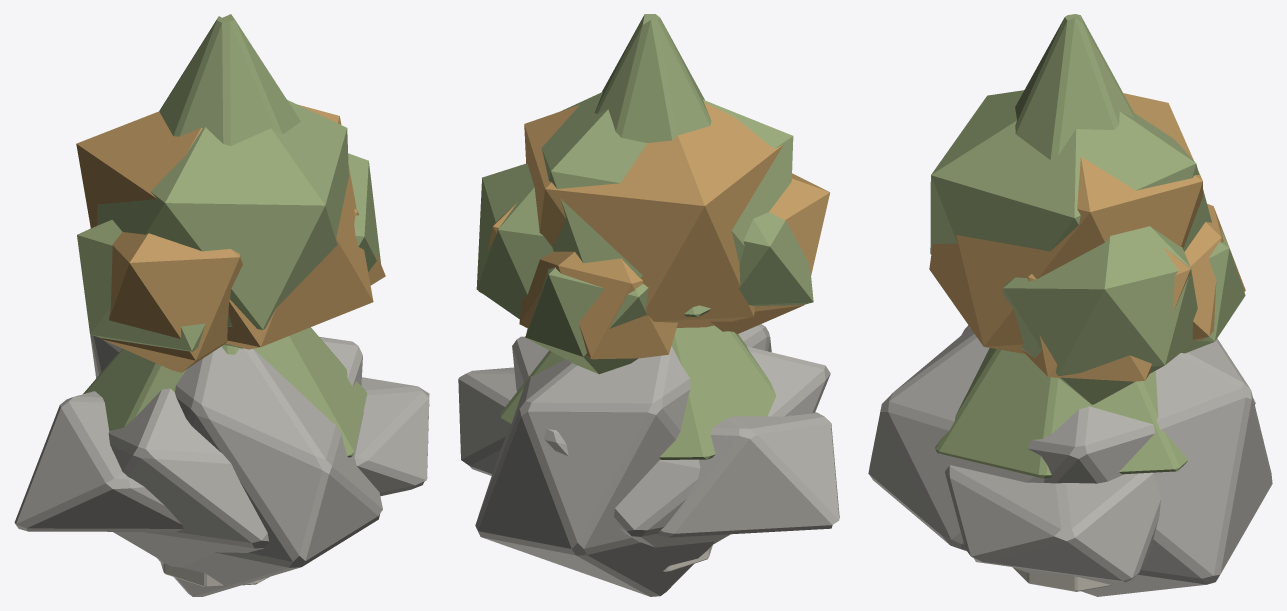
The model's file is props.glb.
The picture shows the model from 3 angles, left to right: view 1: azimuth 30°, elevation 25°; view 2: azimuth 150°, elevation 25°; view 3: azimuth 270°, elevation 25°; orthographic projection. The views are drawn at different scales.
Visible parts, largest first — view 1: TreeB_Foliage, TreeA_Foliage, RockB, TreeC, RockC, RockA, PillarA; view 2: TreeA_Foliage, RockB, TreeB_Foliage, RockC, TreeC, RockA; view 3: TreeB_Foliage, RockB, TreeC, TreeA_Foliage, RockC, RockA, PillarA.
Boxes of the visible parts, x1=… form: TreeB_Foliage: x1=77, y1=100, x2=380, y2=351; TreeA_Foliage: x1=76, y1=104, x2=385, y2=372; RockB: x1=90, y1=335, x2=382, y2=596; TreeC: x1=83, y1=14, x2=367, y2=457; RockC: x1=14, y1=377, x2=429, y2=531; RockA: x1=108, y1=337, x2=362, y2=567; PillarA: x1=160, y1=562, x2=268, y2=587; TreeA_Foliage: x1=478, y1=102, x2=830, y2=359; RockB: x1=475, y1=324, x2=771, y2=596; TreeB_Foliage: x1=476, y1=92, x2=813, y2=374; RockC: x1=458, y1=367, x2=839, y2=537; TreeC: x1=500, y1=14, x2=791, y2=459; RockA: x1=512, y1=336, x2=830, y2=547; TreeB_Foliage: x1=930, y1=90, x2=1245, y2=404; RockB: x1=868, y1=328, x2=1272, y2=596; TreeC: x1=935, y1=14, x2=1188, y2=478; TreeA_Foliage: x1=929, y1=93, x2=1245, y2=381; RockC: x1=945, y1=465, x2=1160, y2=582; RockA: x1=961, y1=325, x2=1255, y2=483; PillarA: x1=1013, y1=567, x2=1111, y2=591.
Bounding box in the file's own units: 0.886 × 1.23 × 0.7648.
